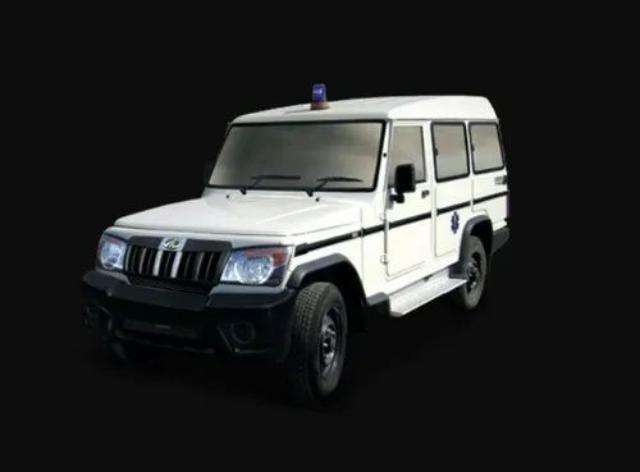ambulance: (81, 70, 521, 389)
